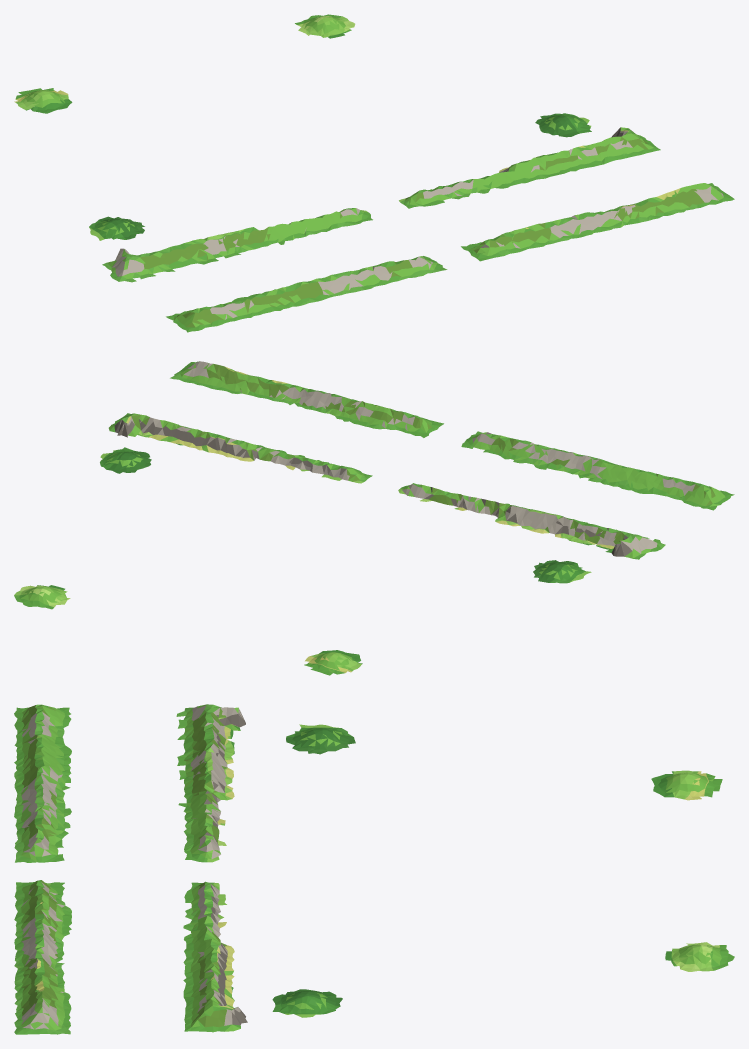
File: Map-M2-Relief.fbx
3 renders of one model, top to bottom at view 1: azimuth 30°, elevation 25°; view 2: azimuth 150°, elevation 25°; view 3: azimuth 270°, elevation 25°, orthographic. The views are drawn at different scales.
Parts seen in each view (by area): view 1: Map-M2-Relief-c21, Map-M2-Relief-c11, Map-M2-Relief-c01, Map-M2-Relief-c31, Map-M2-Relief-c10, Map-M2-Relief-c20, Map-M2-Relief-c12, Map-M2-Relief-c22; view 2: Map-M2-Relief-c11, Map-M2-Relief-c21, Map-M2-Relief-c01, Map-M2-Relief-c31, Map-M2-Relief-c23, Map-M2-Relief-c12; view 3: Map-M2-Relief-c11, Map-M2-Relief-c21, Map-M2-Relief-c31, Map-M2-Relief-c01, Map-M2-Relief-c12, Map-M2-Relief-c10, Map-M2-Relief-c20, Map-M2-Relief-c23, Map-M2-Relief-c22.
Boxes of the visible parts, x1,y1,x2,y2 form: Map-M2-Relief-c21: [399, 113, 697, 258]; Map-M2-Relief-c11: [89, 208, 442, 320]; Map-M2-Relief-c01: [90, 228, 218, 330]; Map-M2-Relief-c31: [577, 116, 730, 204]; Map-M2-Relief-c10: [219, 267, 447, 323]; Map-M2-Relief-c20: [477, 204, 699, 261]; Map-M2-Relief-c12: [14, 90, 72, 113]; Map-M2-Relief-c22: [303, 17, 355, 38]; Map-M2-Relief-c11: [398, 432, 693, 583]; Map-M2-Relief-c21: [100, 364, 440, 483]; Map-M2-Relief-c01: [570, 482, 730, 581]; Map-M2-Relief-c31: [100, 361, 213, 460]; Map-M2-Relief-c23: [14, 587, 65, 609]; Map-M2-Relief-c12: [305, 650, 362, 672]; Map-M2-Relief-c11: [21, 713, 355, 862]; Map-M2-Relief-c21: [21, 880, 342, 1014]; Map-M2-Relief-c31: [21, 998, 320, 1034]; Map-M2-Relief-c01: [22, 704, 337, 728]; Map-M2-Relief-c12: [651, 770, 701, 800]; Map-M2-Relief-c10: [14, 726, 24, 862]; Map-M2-Relief-c20: [14, 882, 24, 1013]; Map-M2-Relief-c23: [698, 942, 734, 971]; Map-M2-Relief-c22: [665, 943, 701, 971].
Size of the model in its own units: 114 by 2.87 by 106.
